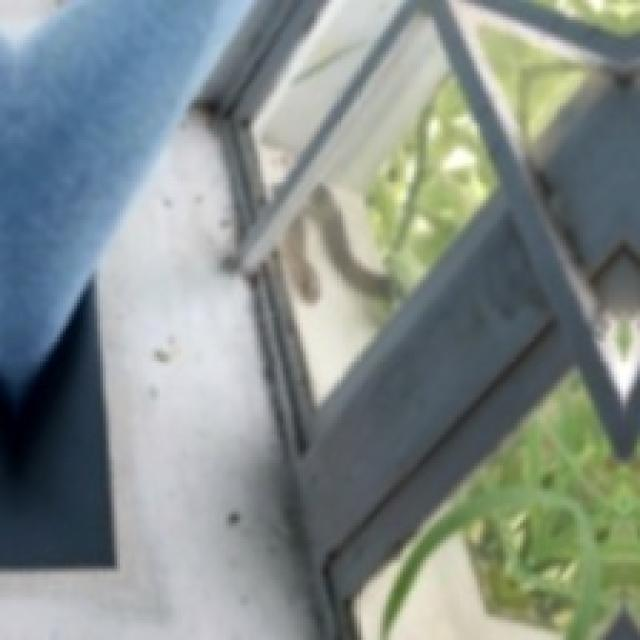philippine cobra: (286, 186, 391, 300)
